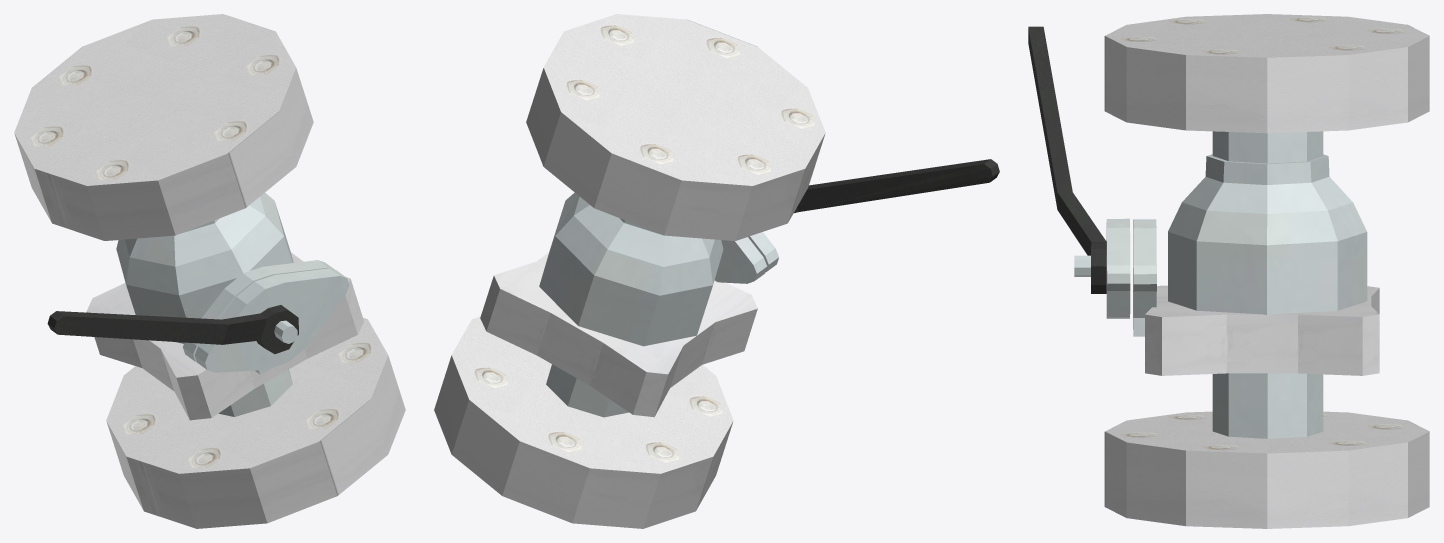
The model's file is qyk005-geode.glb.
3 views of the same model, side by side, from view 1: azimuth 30°, elevation 25°; view 2: azimuth 150°, elevation 25°; view 3: azimuth 270°, elevation 25° (orthographic). The views are drawn at different scales.
Visible parts, largest first — view 1: Node; view 2: Node; view 3: Node.
Part boxes in pixels (x1=…): Node: x1=14, y1=14, x2=405, y2=528; Node: x1=434, y1=14, x2=999, y2=528; Node: x1=1028, y1=14, x2=1429, y2=528.
Bounding box in the file's own units: 0.1788 × 0.1746 × 0.1274.
Materials: 1 (1 with a texture image).
